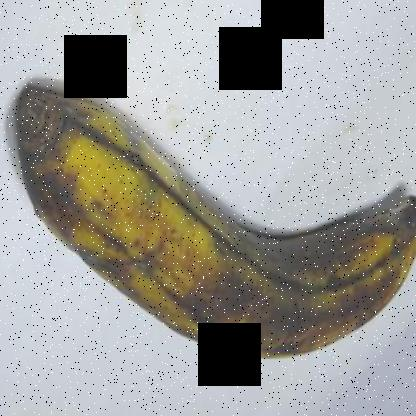overripe: (1, 65, 415, 377)
